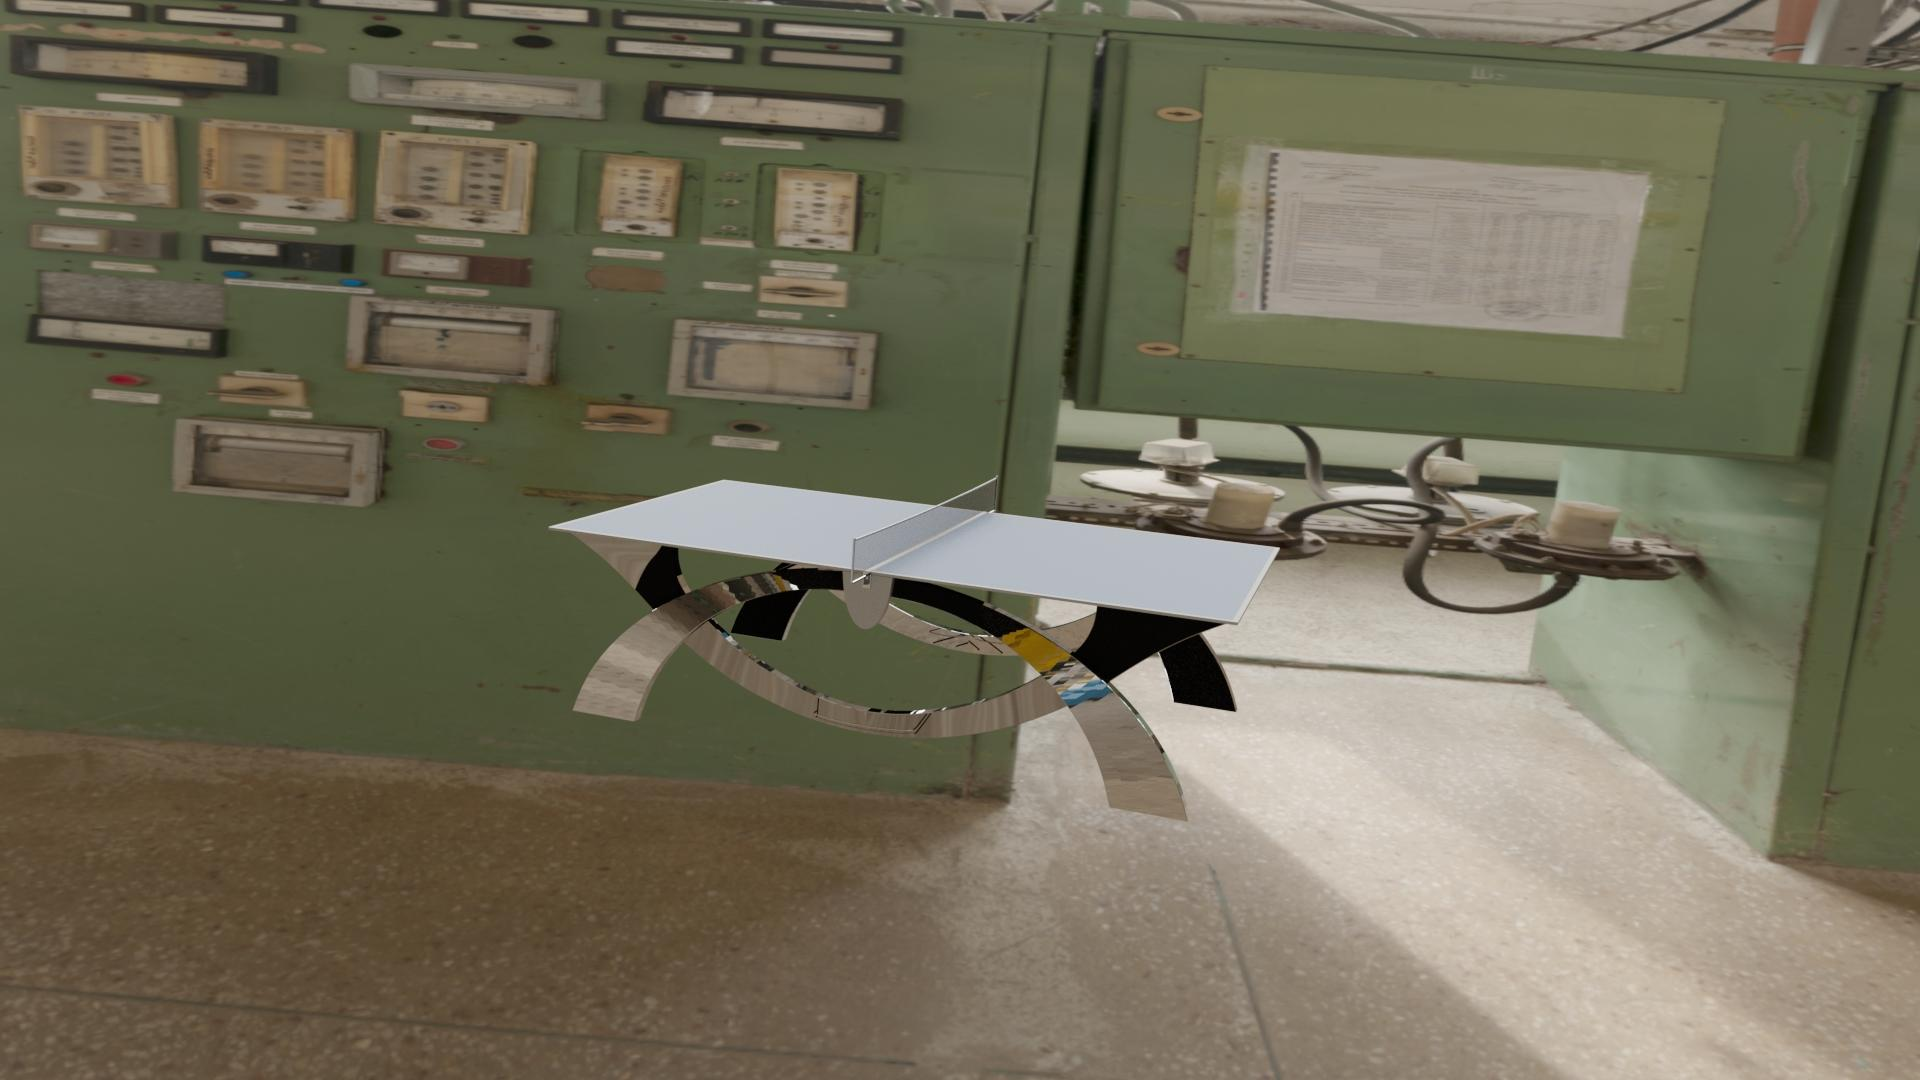table: (555, 481, 1275, 620)
